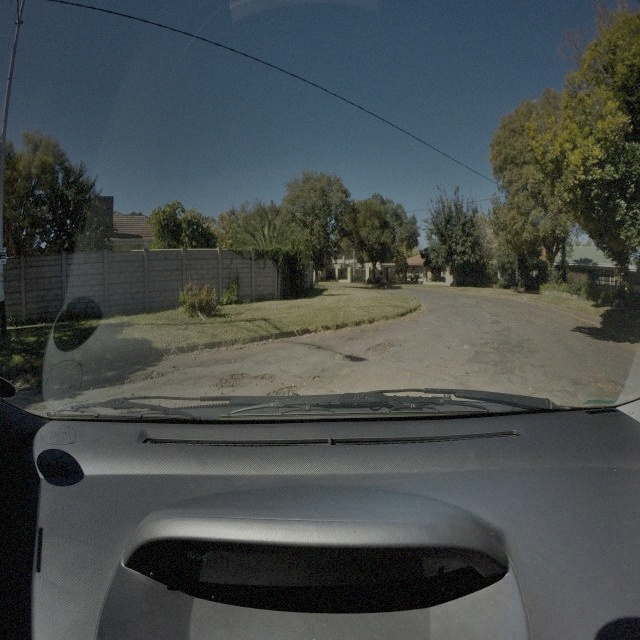pothole: (267, 380, 300, 406), (216, 369, 250, 391), (596, 377, 629, 391), (368, 341, 392, 356), (254, 370, 274, 379), (343, 351, 358, 362), (483, 341, 499, 348), (312, 374, 323, 381)
